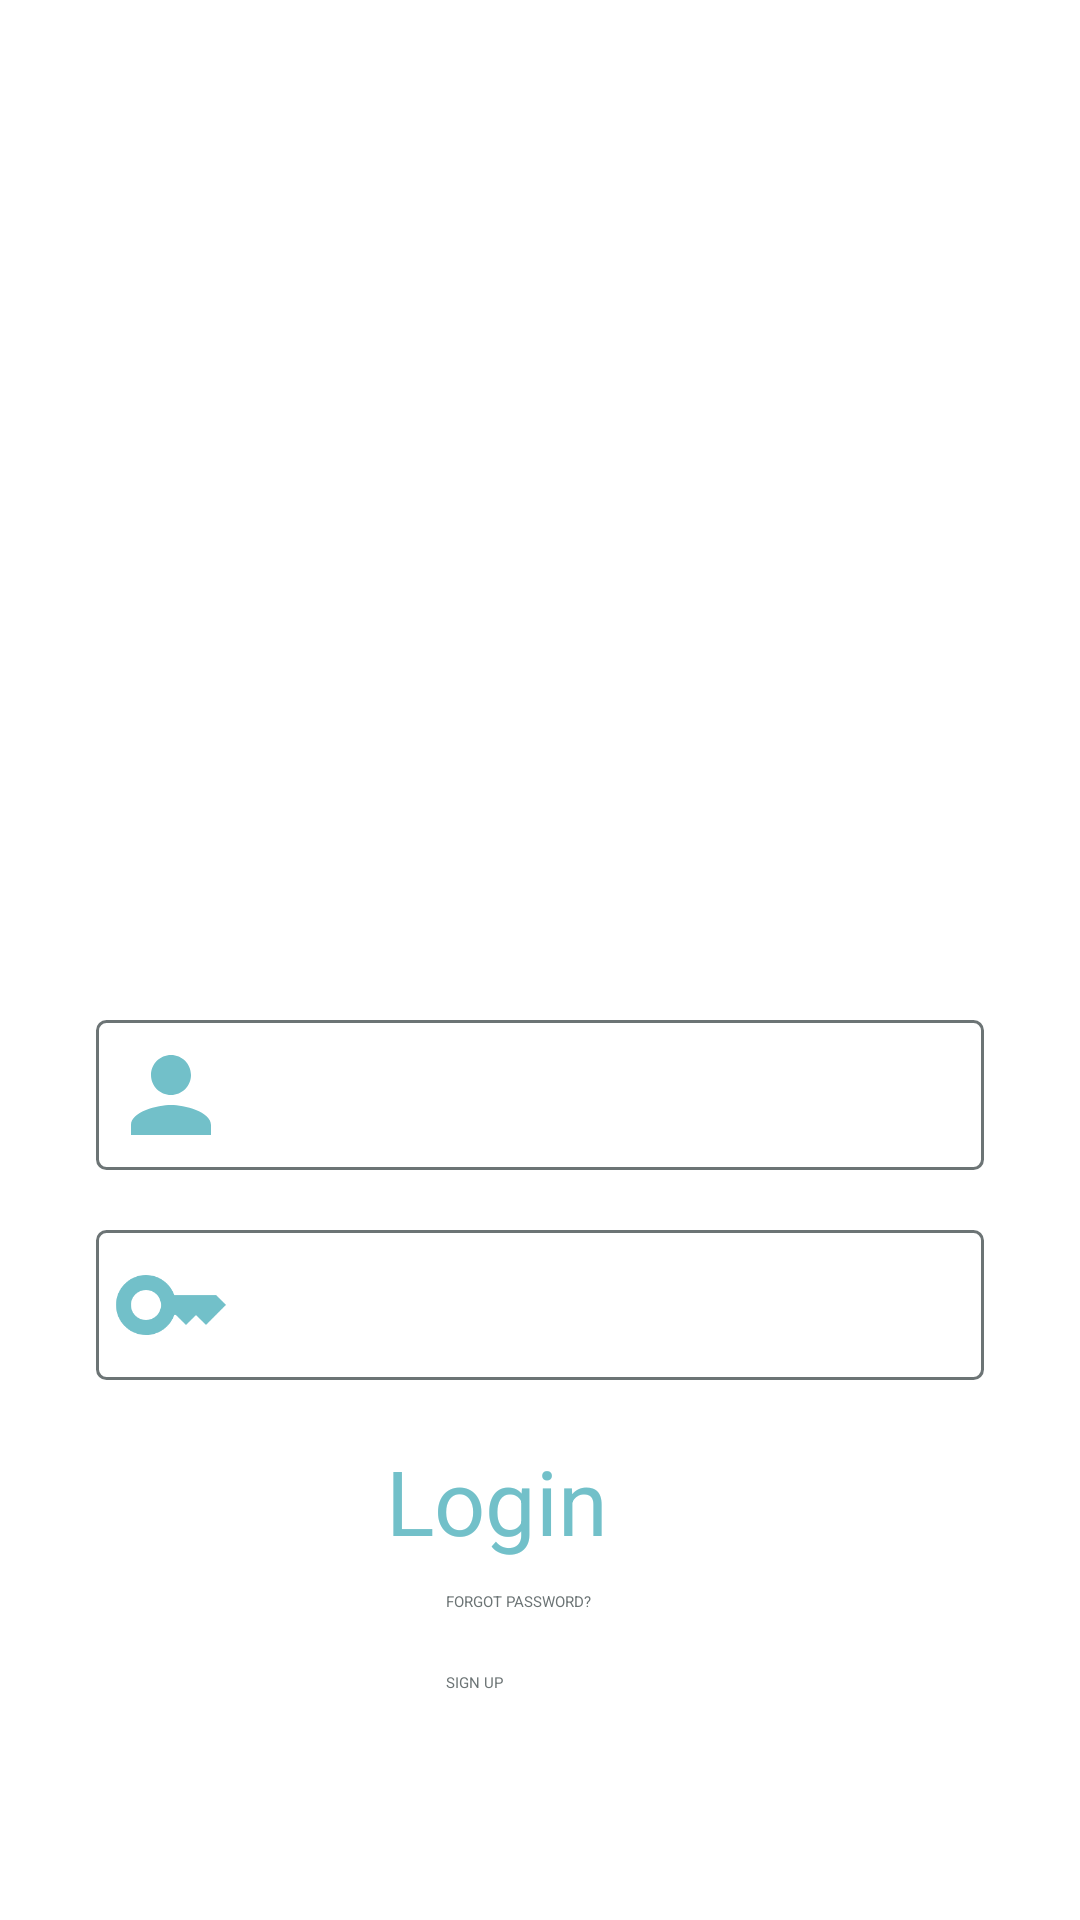

Icon bounding boxes for this 1080x1920 phone screenshot, format (x1, y1, x2, y2):
key: (116, 1275, 226, 1335)
person: (131, 1055, 211, 1135)
